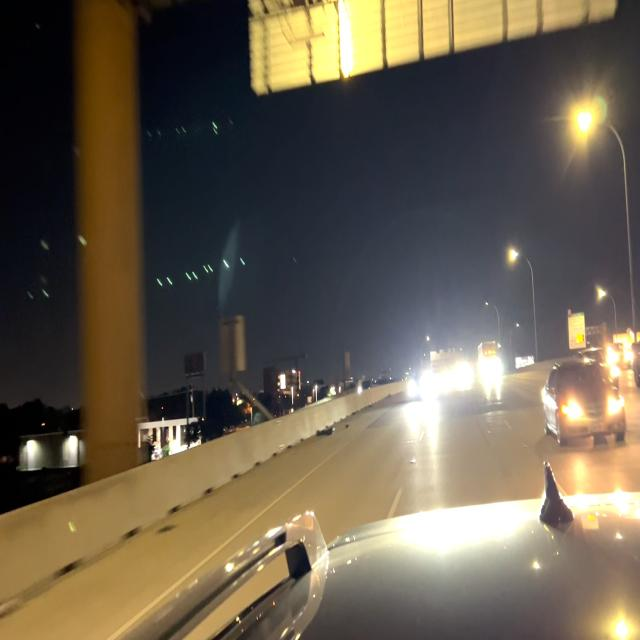back-of-sign: (244, 0, 618, 94)
